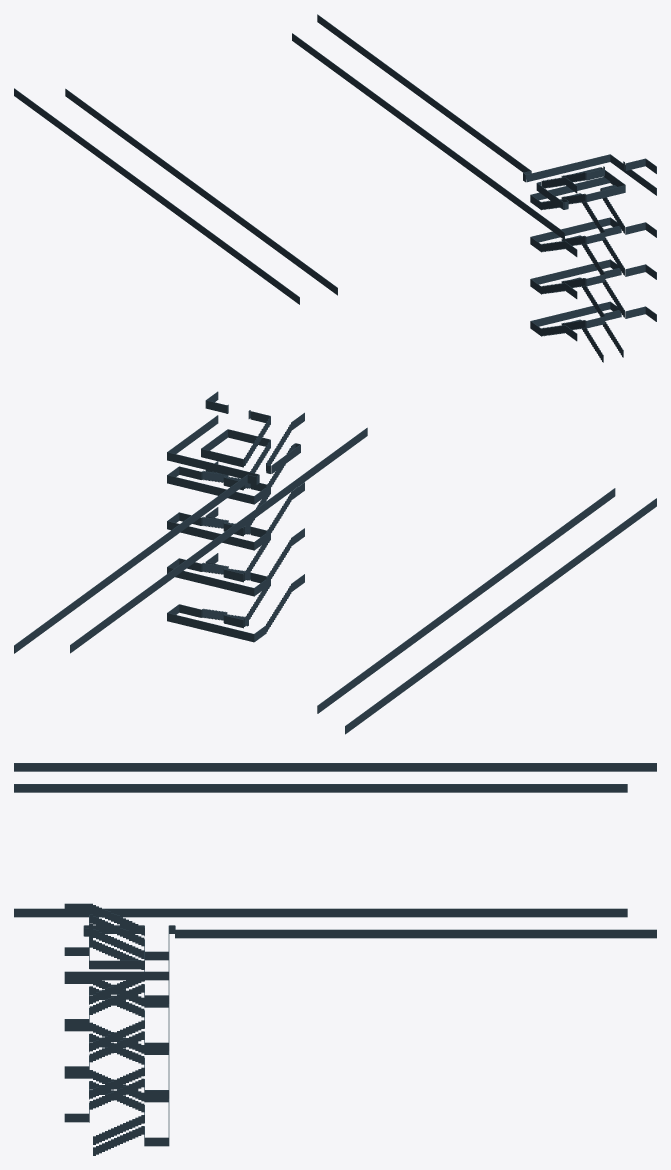
File: v02-01-06-steel.glb
3 renders of one model, top to bottom at view 1: azimuth 30°, elevation 25°; view 2: azimuth 150°, elevation 25°; view 3: azimuth 270°, elevation 25°, orthographic. The views are drawn at different scales.
Visible parts, largest first — view 1: v02-01-06-steel; view 2: v02-01-06-steel; view 3: v02-01-06-steel.
Part boxes in pixels (<box>): v02-01-06-steel: <box>14,14,656,362</box>; v02-01-06-steel: <box>14,391,656,734</box>; v02-01-06-steel: <box>14,763,656,1155</box>.
Size of the model in its own units: 58.79 by 29.02 by 76.5.
